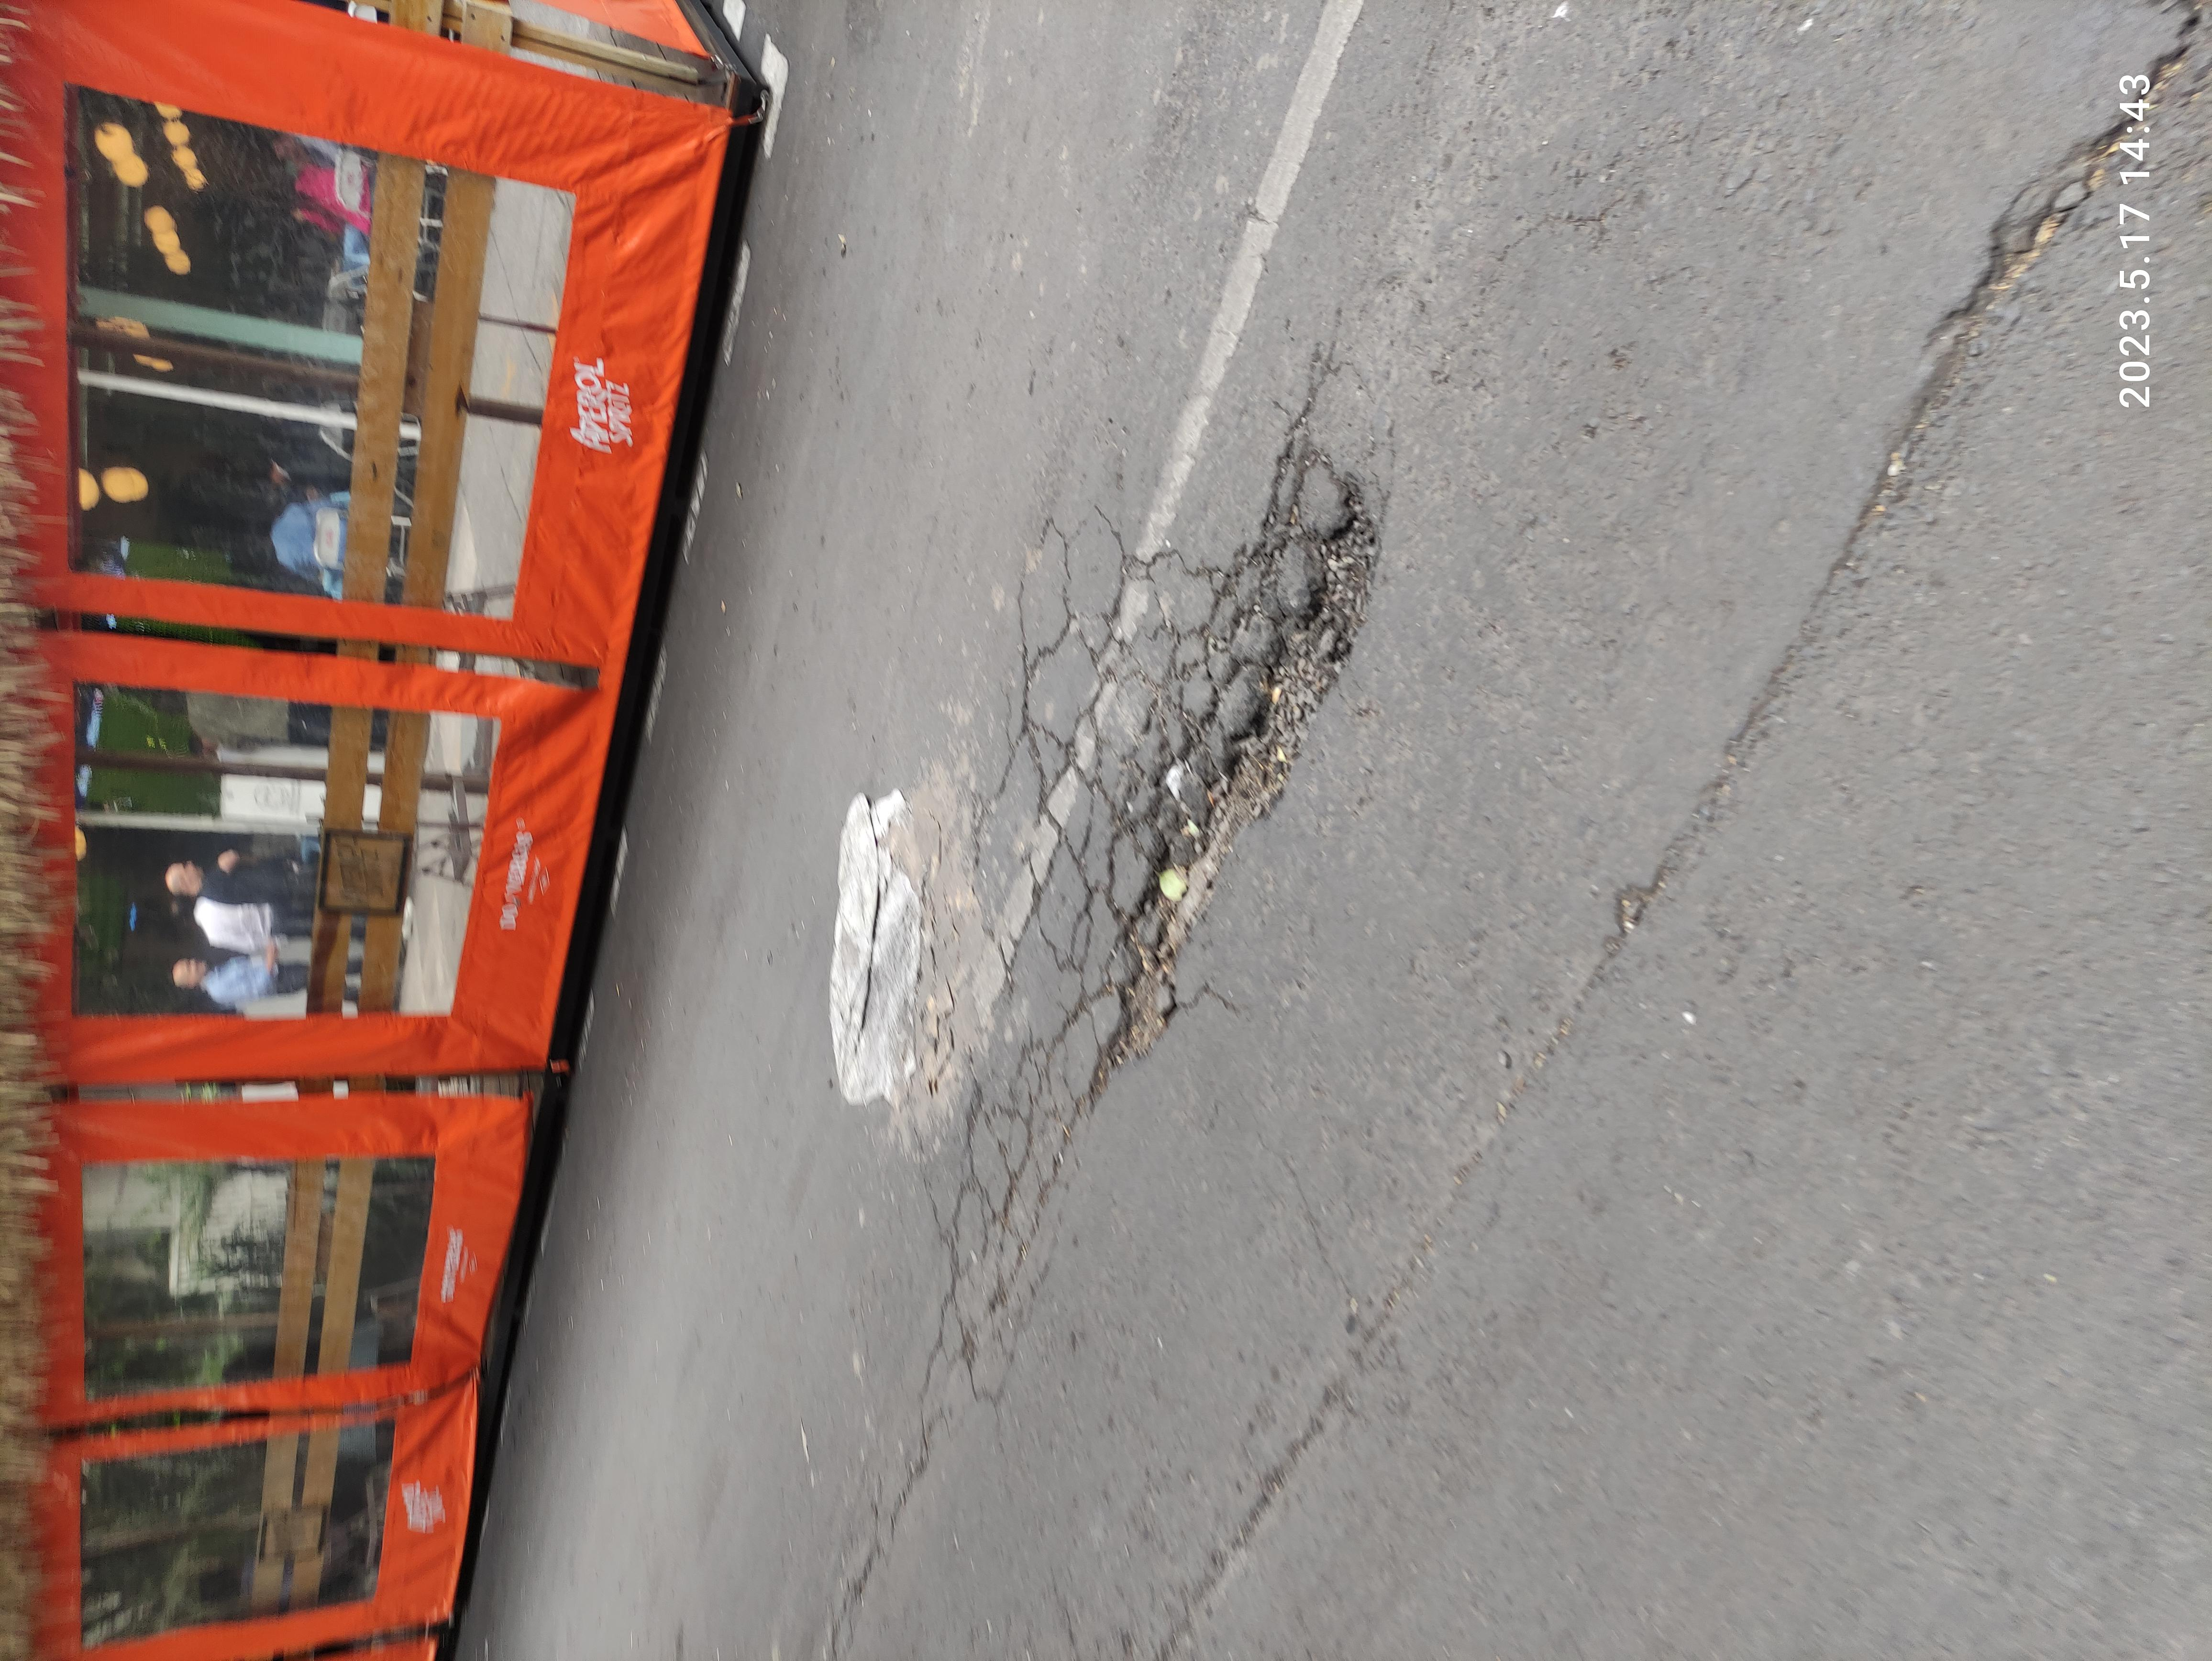alligator-crack: (242, 701, 1472, 820), (1218, 820, 1542, 914)
crack: (609, 1075, 2161, 1638), (0, 864, 570, 1089), (9, 607, 239, 694)
pothole: (1132, 932, 1540, 1054), (762, 834, 1211, 944)
